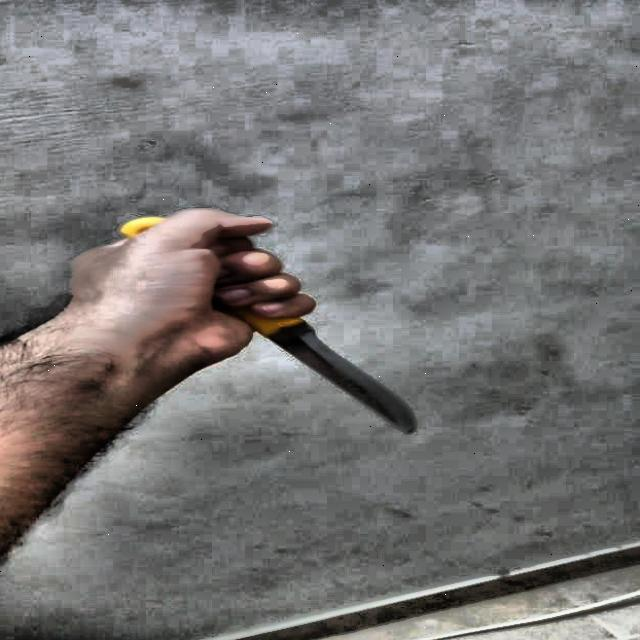knife: (121, 217, 414, 434)
